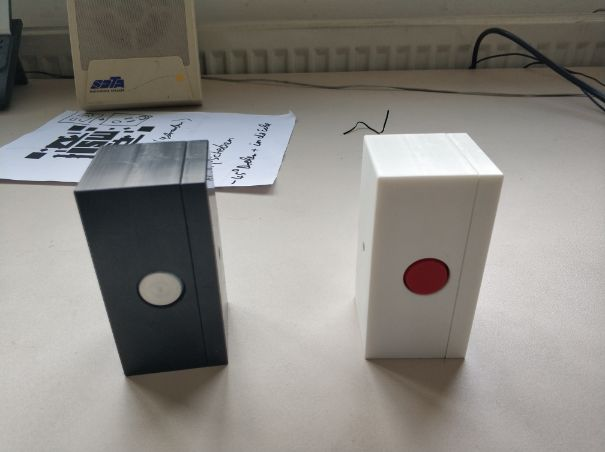black+black+silver: (71, 138, 233, 378)
white+white+red: (353, 130, 506, 363)
